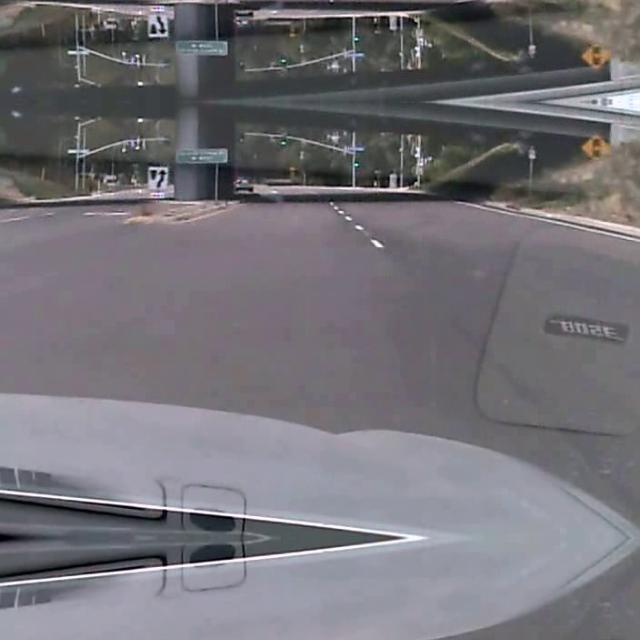signalAhead: (580, 131, 610, 161), (580, 41, 610, 71)
